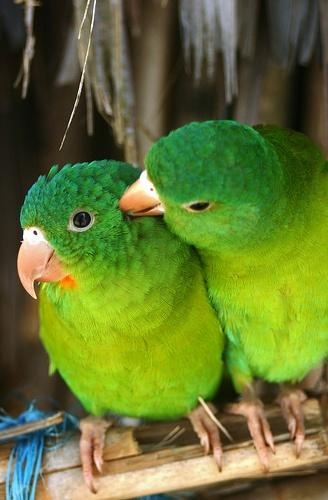bird: (120, 121, 326, 474), (17, 161, 224, 493)
